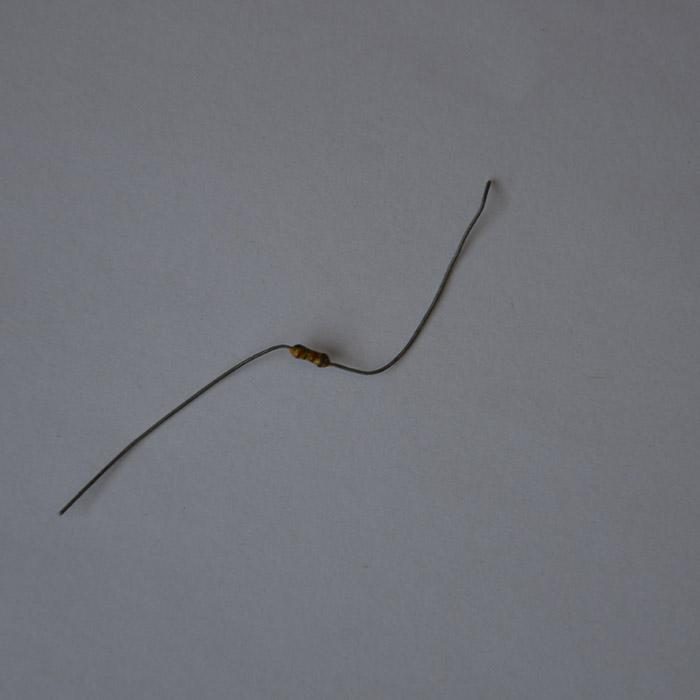resistor: (287, 339, 334, 372)
